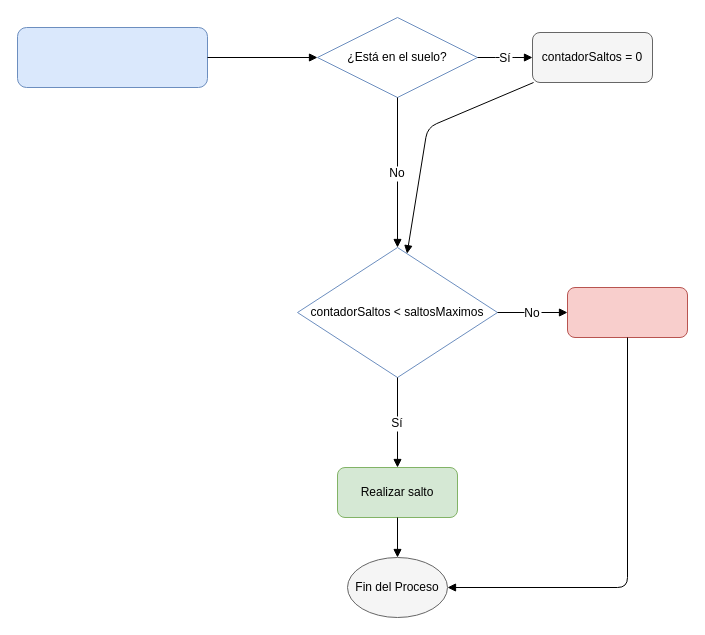
Some shapes in this 705 by 635 pixel diagram are drawn without their labels. The centre of each missing label's shape, as x and y in pixels:
"Jugador presiona el botón de salto" goes at point (112, 57).
"No saltar" goes at point (627, 312).
